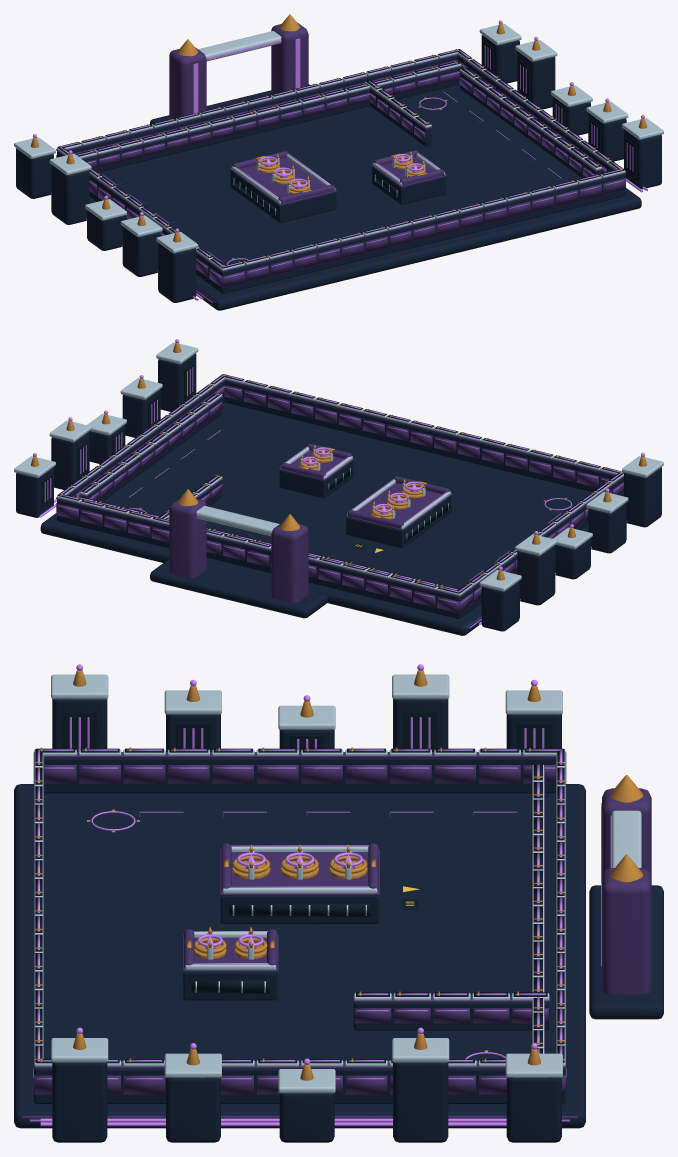
File: citadel.glb
The picture shows the model from 3 angles, top to bottom: view 1: azimuth 30°, elevation 25°; view 2: azimuth 150°, elevation 25°; view 3: azimuth 270°, elevation 25°; orthographic projection. The views are drawn at different scales.
Parts seen in each view (by area): view 1: Raised orbital deck, SOLID 1 border, SOLID 7 reflector, Citadel spire, Citadel spire.001, SOLID 0 border, Exterior dock pylon.004, Exterior dock pylon.001, SOLID 4 cover, Exterior dock pylon.009, Exterior dock pylon.003, Exterior dock pylon (+27 smaller); view 2: Raised orbital deck, SOLID 1 border, SOLID 0 border, Horizon installation platform, Citadel spire, Citadel spire.001, Exterior dock pylon.001, Exterior dock pylon.004, SOLID 4 cover, Exterior dock pylon, Exterior dock pylon.003, Exterior dock pylon.006 (+24 smaller); view 3: Raised orbital deck, SOLID 2 border, Citadel spire.001, SOLID 3 border, Horizon installation platform, Exterior dock pylon.006, Exterior dock pylon.009, Exterior dock pylon.005, Exterior dock pylon.008, SOLID crown 4 cover, SOLID 6 cover, SOLID 4 cover (+47 smaller).
Part boxes in pixels (x1,y1,x2,y2): Raised orbital deck: (89, 84, 641, 310); SOLID 1 border: (220, 174, 625, 293); SOLID 7 reflector: (82, 67, 460, 172); Citadel spire: (169, 47, 206, 119); Citadel spire.001: (271, 22, 308, 94); SOLID 0 border: (57, 55, 457, 156); Exterior dock pylon.004: (158, 242, 196, 302); Exterior dock pylon.001: (51, 164, 89, 224); SOLID 4 cover: (230, 170, 336, 222); Exterior dock pylon.009: (624, 129, 661, 189); Exterior dock pylon.003: (122, 226, 160, 276); Exterior dock pylon: (16, 148, 53, 198); Raised orbital deck: (40, 402, 591, 635); SOLID 1 border: (224, 380, 614, 492); SOLID 0 border: (57, 499, 461, 618); Horizon installation platform: (150, 559, 327, 618); Citadel spire: (271, 522, 308, 602); Citadel spire.001: (169, 497, 206, 578); Exterior dock pylon.001: (517, 545, 555, 605); Exterior dock pylon.004: (624, 467, 661, 527); SOLID 4 cover: (346, 495, 451, 548); Exterior dock pylon: (481, 581, 519, 631); Exterior dock pylon.003: (588, 503, 626, 553); Exterior dock pylon.006: (51, 431, 89, 489); Raised orbital deck: (14, 784, 585, 1128); SOLID 2 border: (44, 758, 555, 793); Citadel spire.001: (602, 868, 651, 994); SOLID 3 border: (34, 1068, 565, 1103); Horizon installation platform: (589, 885, 663, 1019); Exterior dock pylon.006: (393, 1062, 448, 1142); Exterior dock pylon.009: (52, 1062, 107, 1142); Exterior dock pylon.005: (506, 1077, 561, 1142); Exterior dock pylon.008: (166, 1077, 220, 1142); SOLID crown 4 cover: (220, 849, 379, 895); SOLID 6 cover: (353, 1002, 549, 1030); SOLID 4 cover: (220, 895, 379, 923).
Bounding box in the file's own units: 25.51 × 4.67 × 18.3.
